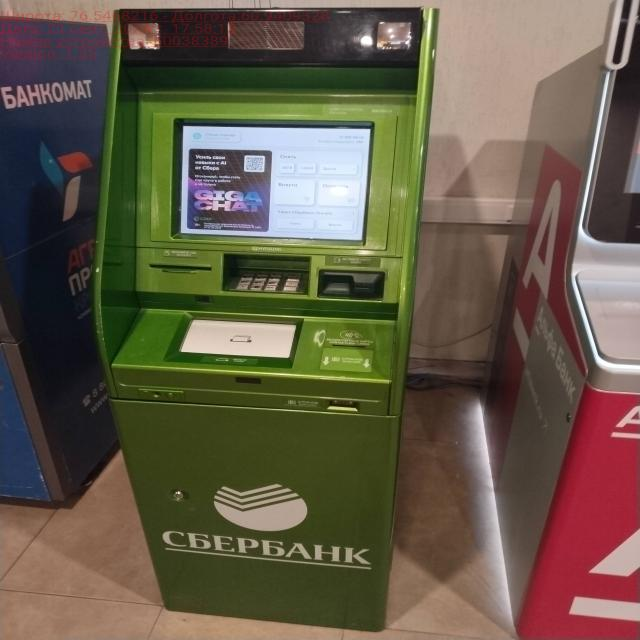bank: (94, 0, 427, 640)
